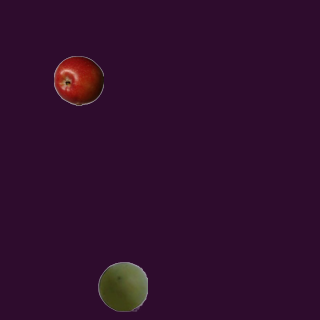Apple Braeburn: (53, 55, 103, 105)
Grape White 4: (97, 261, 147, 311)
